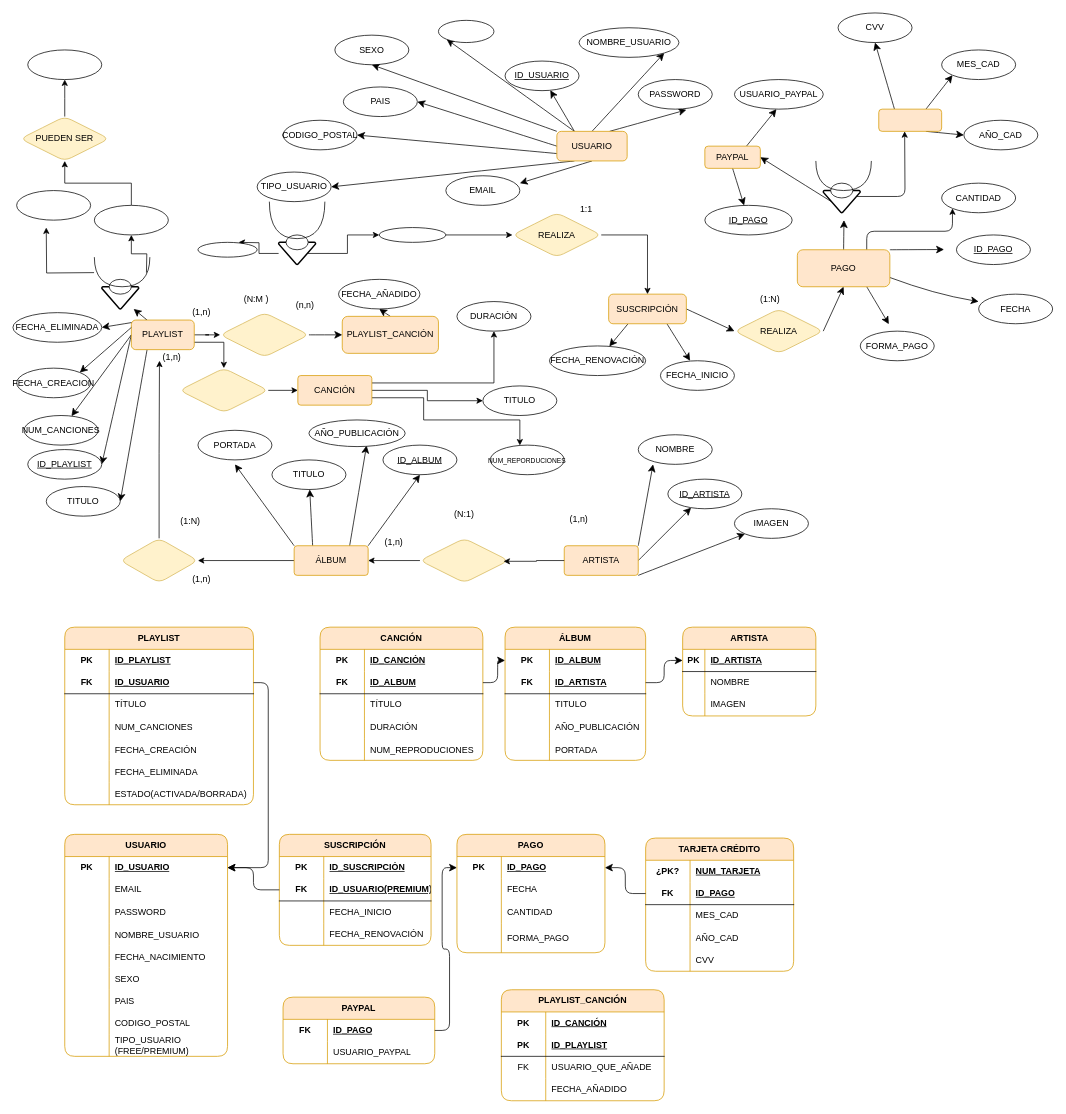
Image size: 1066x1114. Some labels were removed from this diagram. Each missing label, with the centre of its shape:
activa: the point at 131,220
COMPARTE: the point at 264,334
COMPARTIDA: the point at 64,64
CONTIENE: the point at 159,560
eliminada: the point at 53,205
FECHA_NAC: the point at 466,31
FREE: the point at 227,249
PREMIUM: the point at 412,234
PUBLICA: the point at 464,560
TARJETA CREDITO: the point at 910,119
TIENE: the point at 223,390
